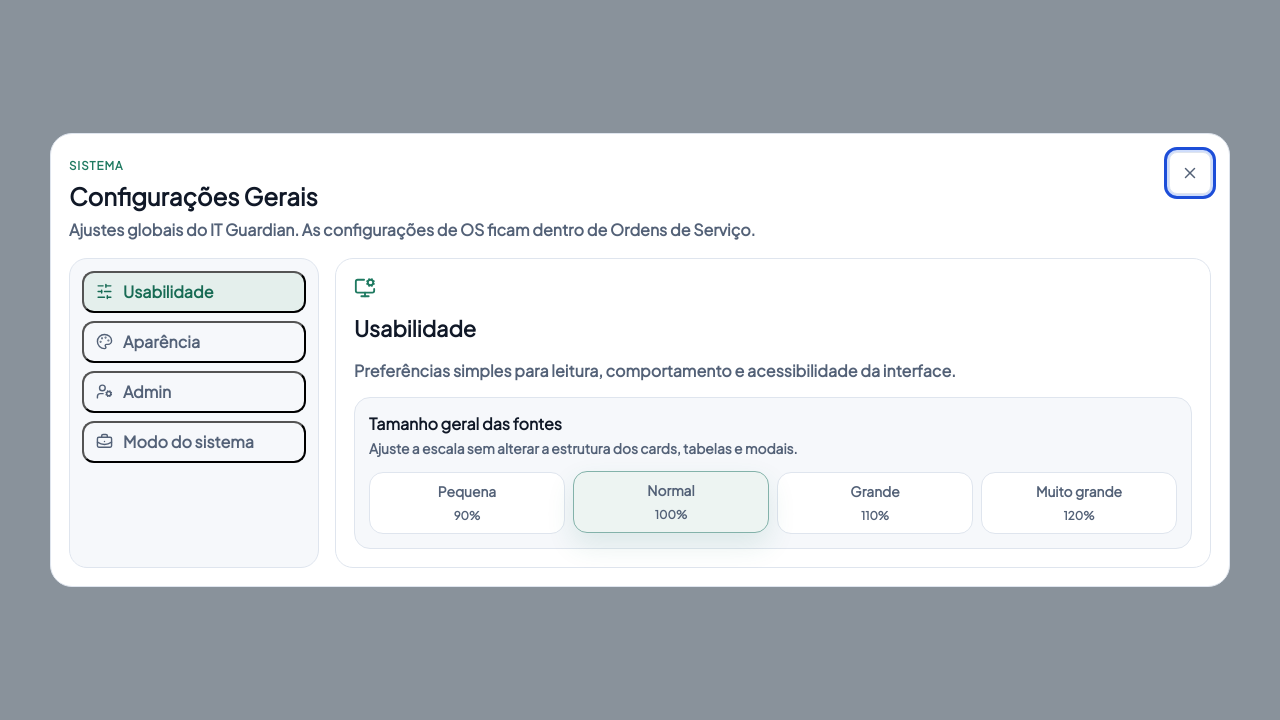
Test case: GeneralSettingsModal - admin: usuarios › exclui usuario somente apos confirmar e limpa o formulario se era o editado
The width and height of the screenshot is (1280, 720).
Click the button "Admin". click: coordinates (194, 392)
box: x1=82 y1=371 x2=306 y2=413
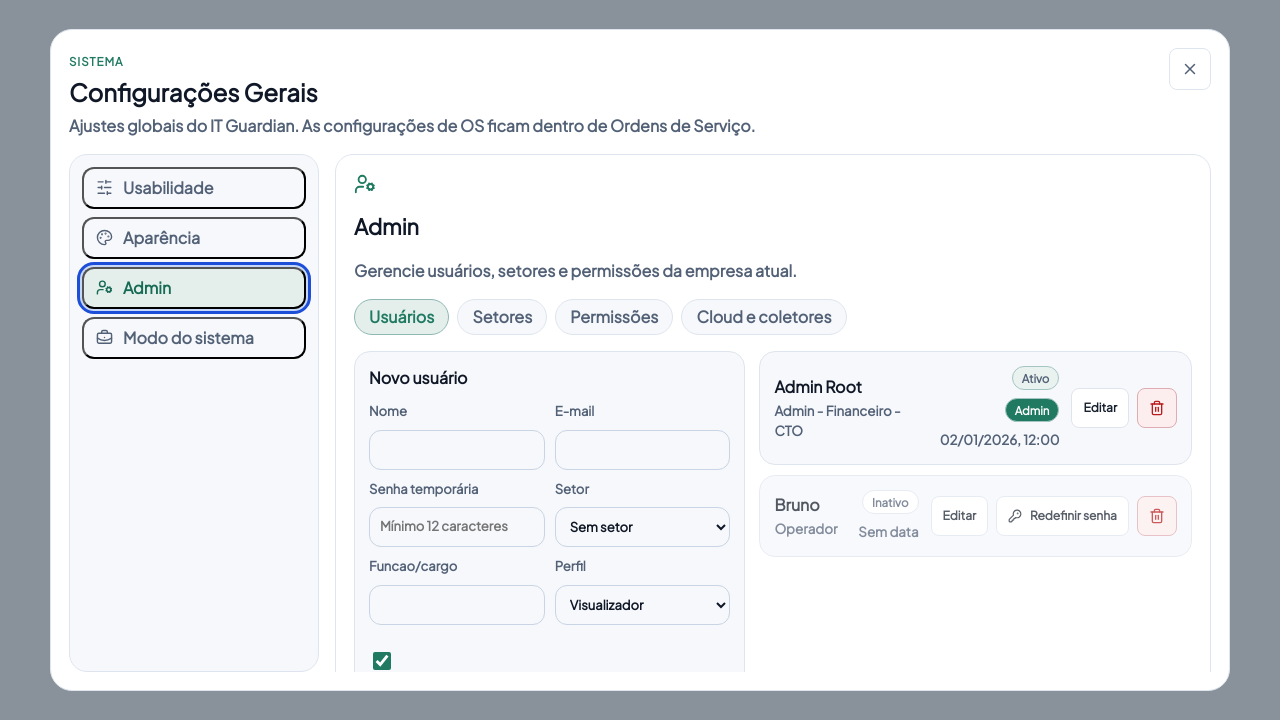
expect the text "Admin Root" is shown: met, box x1=774 y1=376 x2=862 y2=397
Click the button "Editar" in the row of "- CTO". click: coordinates (1100, 408)
box: x1=1071 y1=388 x2=1129 y2=428
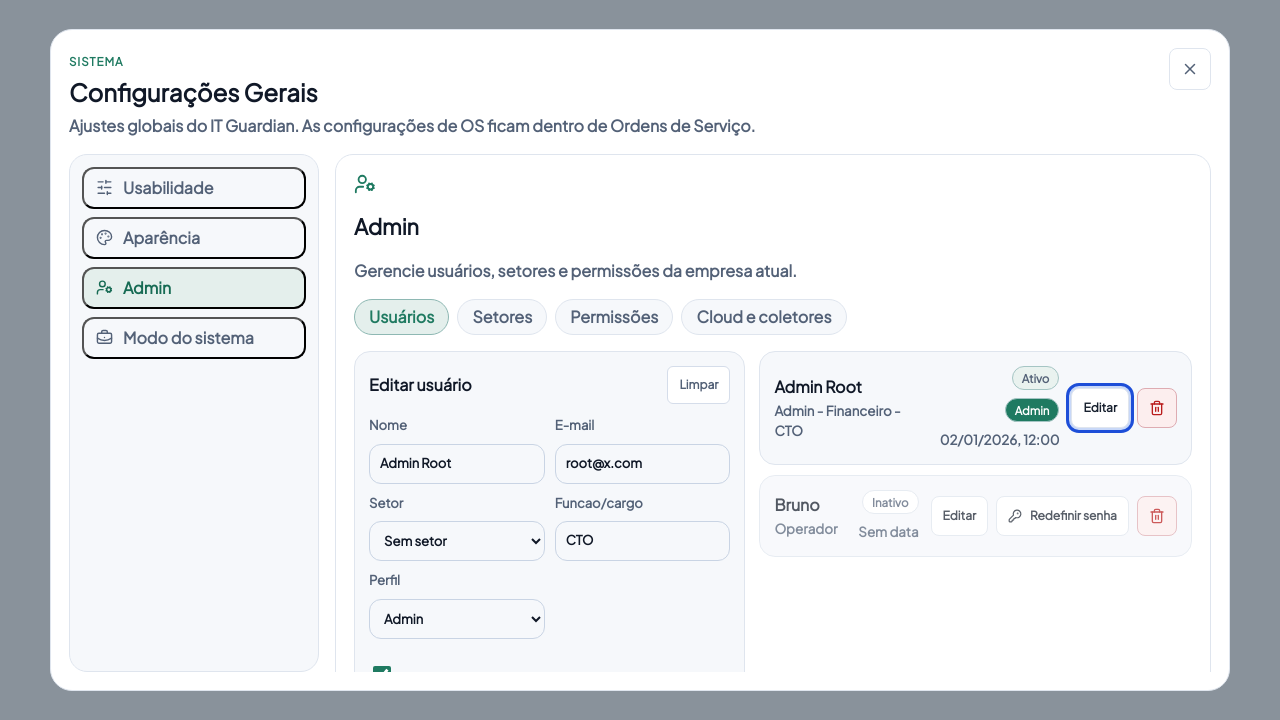
Click the button named "Excluir usuário Admin Root". click: coordinates (1157, 408)
box: x1=1137 y1=388 x2=1177 y2=428
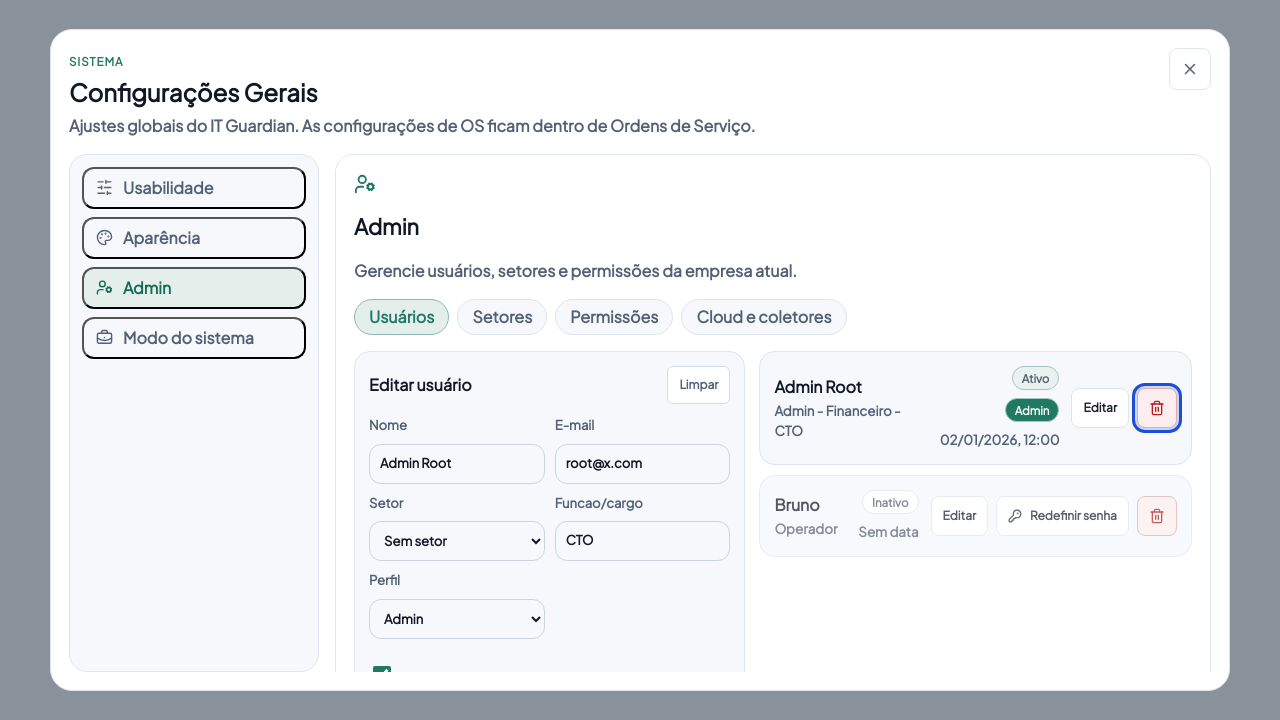
Click the button named "Excluir usuário Admin Root". click: coordinates (1157, 408)
box: x1=1137 y1=388 x2=1177 y2=428
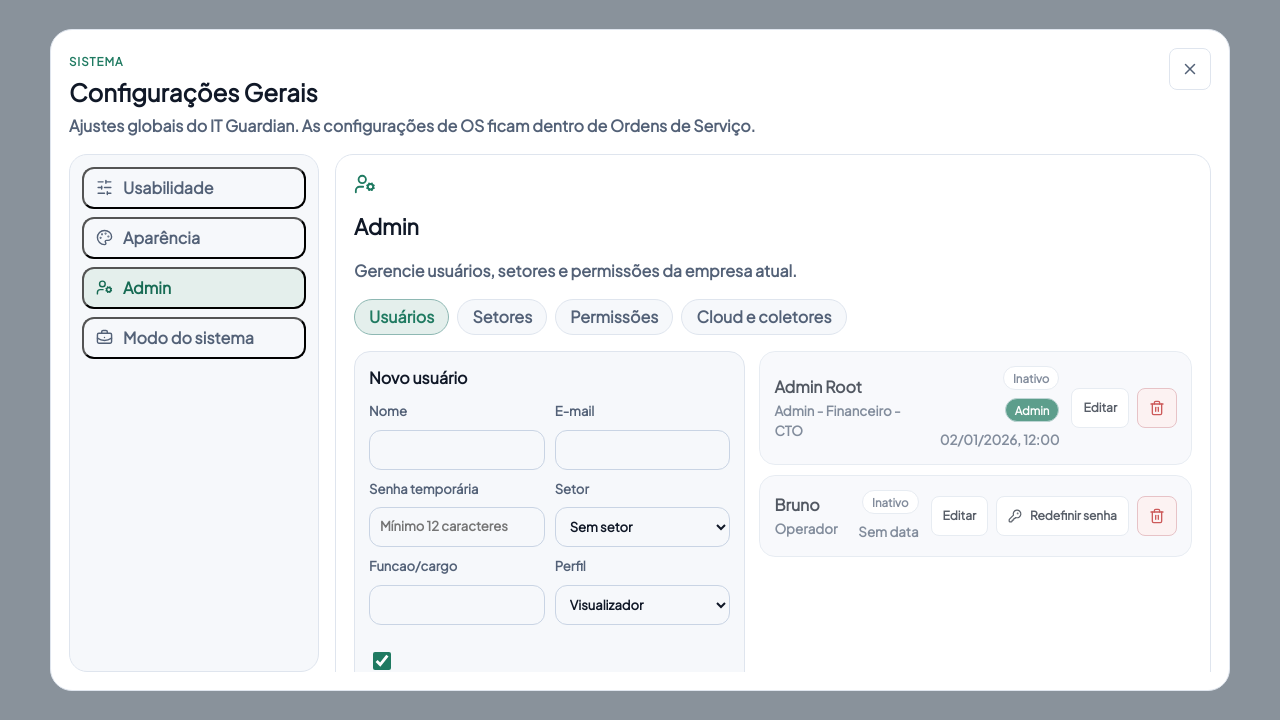
expect the text "Novo usuário" is shown: met, box x1=369 y1=366 x2=468 y2=390
expect the button named "Excluir usuário Admin Root" is disabled: met, box x1=1137 y1=388 x2=1177 y2=428
